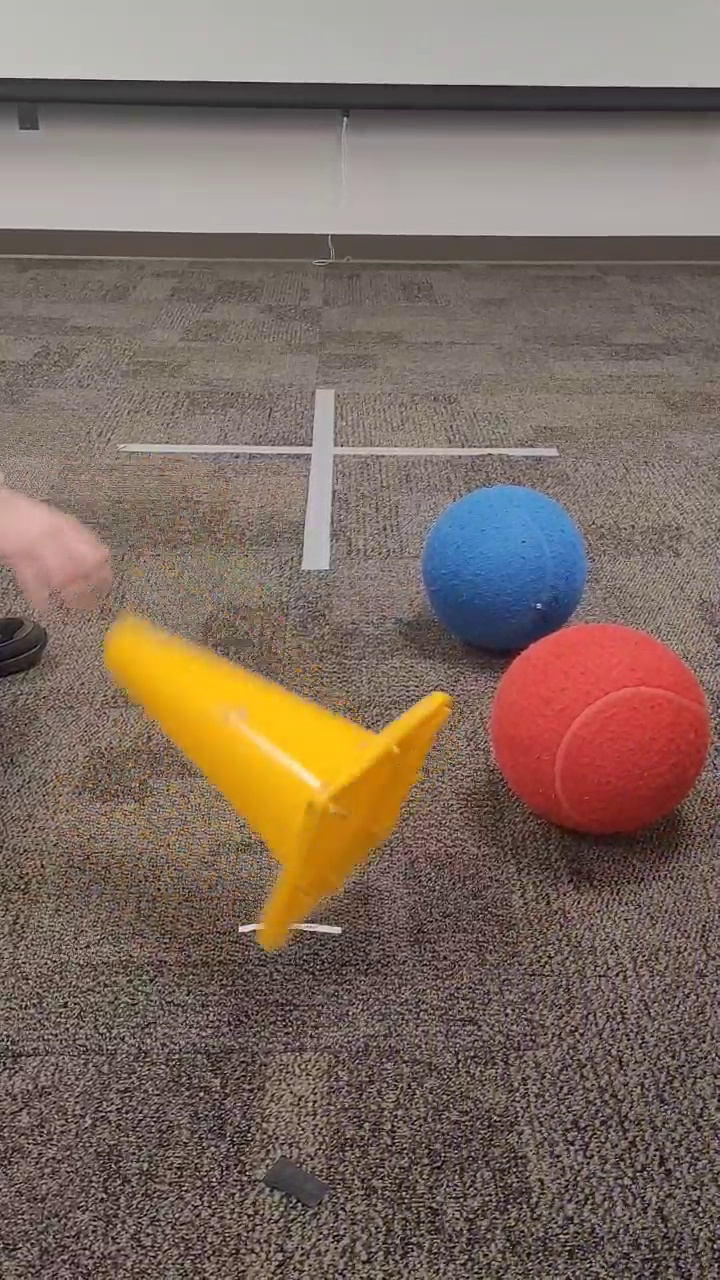ball: (484, 618, 714, 836), (418, 480, 589, 656)
cone: (99, 602, 454, 956)
foot: (1, 609, 52, 682)
hand: (1, 485, 117, 612)
